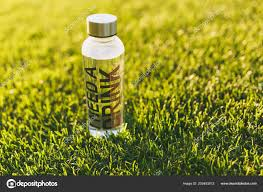plastic_bottle: (81, 13, 124, 138)
